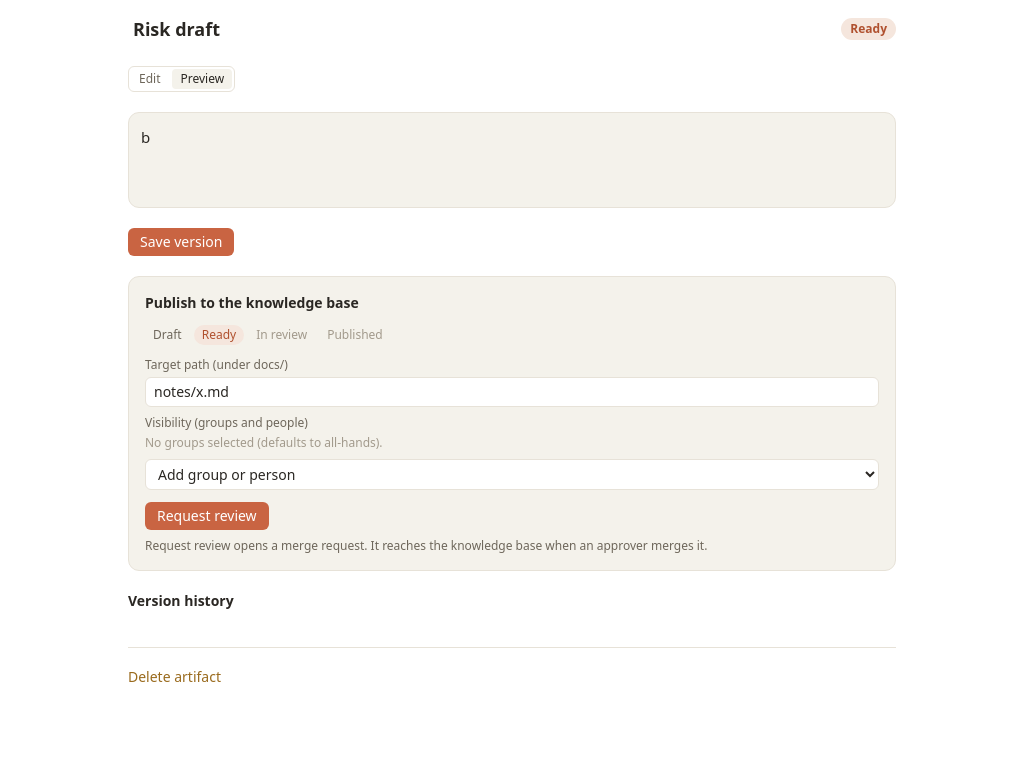
Test: ArtifactEditor publishing › adding a person to visibility expands to that person's groups
Select "Alice Adams (exec)" in the dropdown named "Add group or person": (512, 474) left=145, top=459, right=879, bottom=490
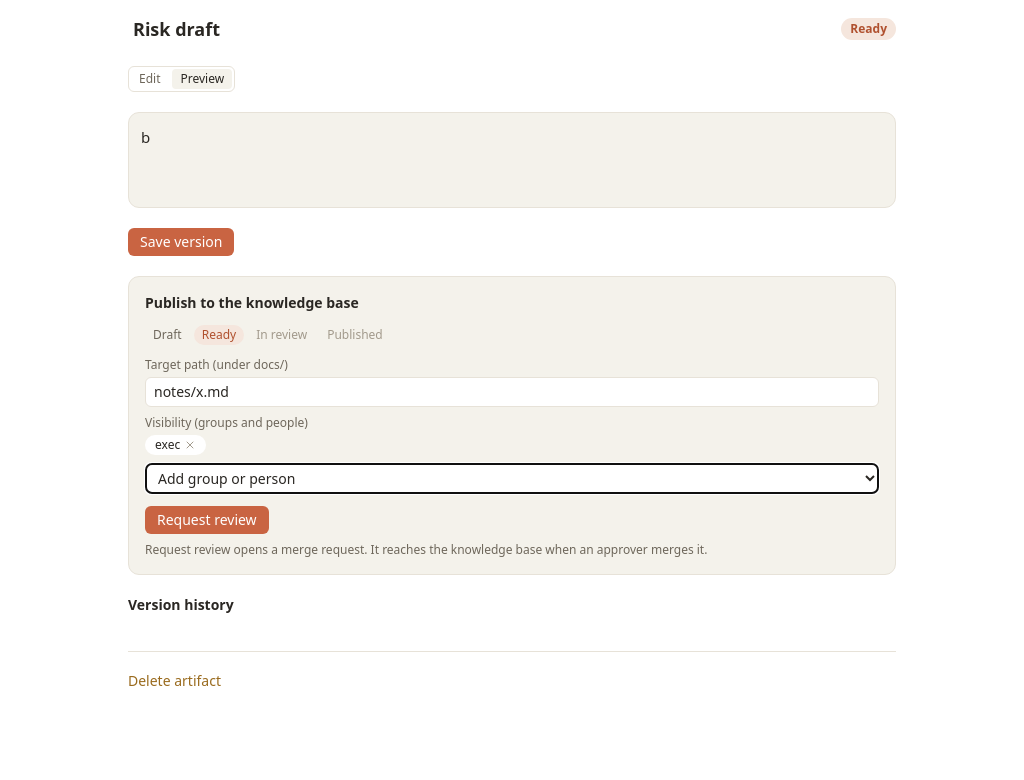
Check: the list item "exec" is shown, box left=145, top=435, right=206, bottom=455
